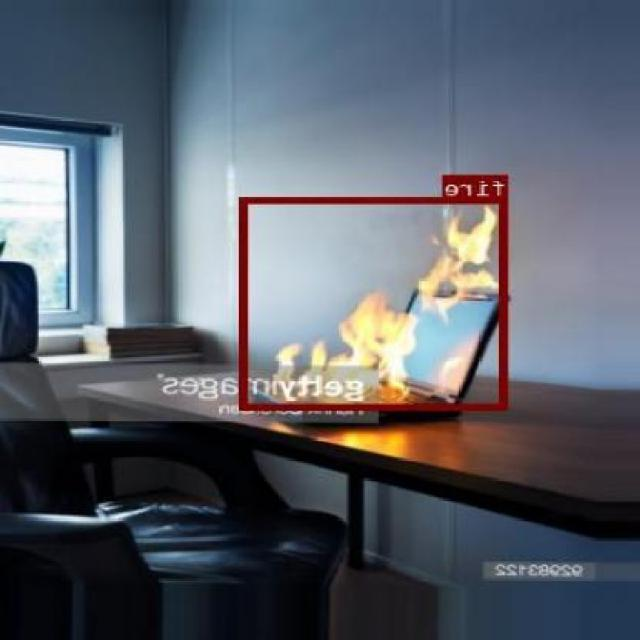Fire: (242, 196, 508, 409)
